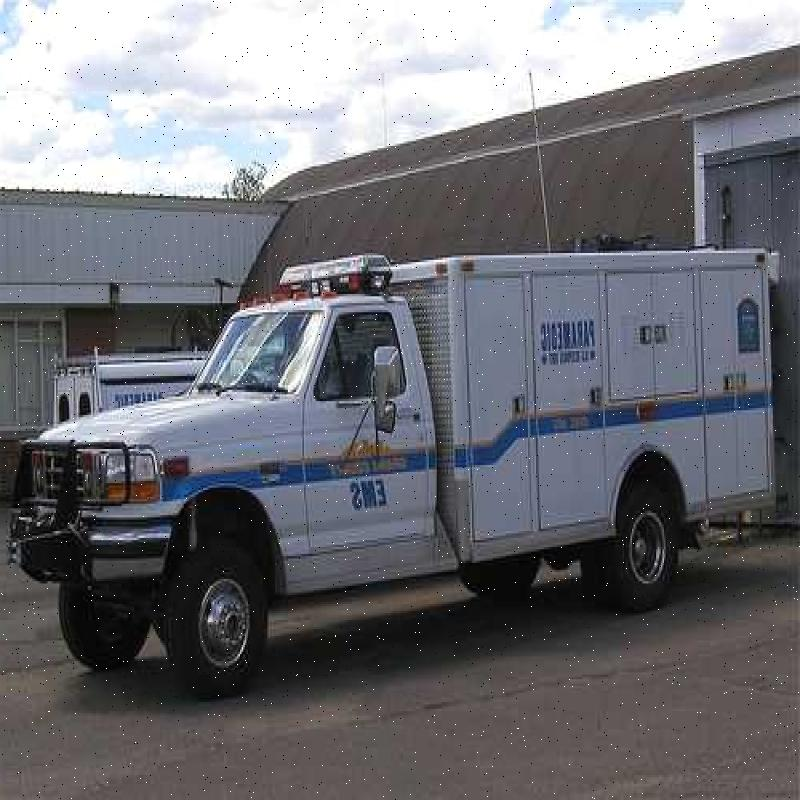AmbulanceSiren: (217, 210, 401, 341)
